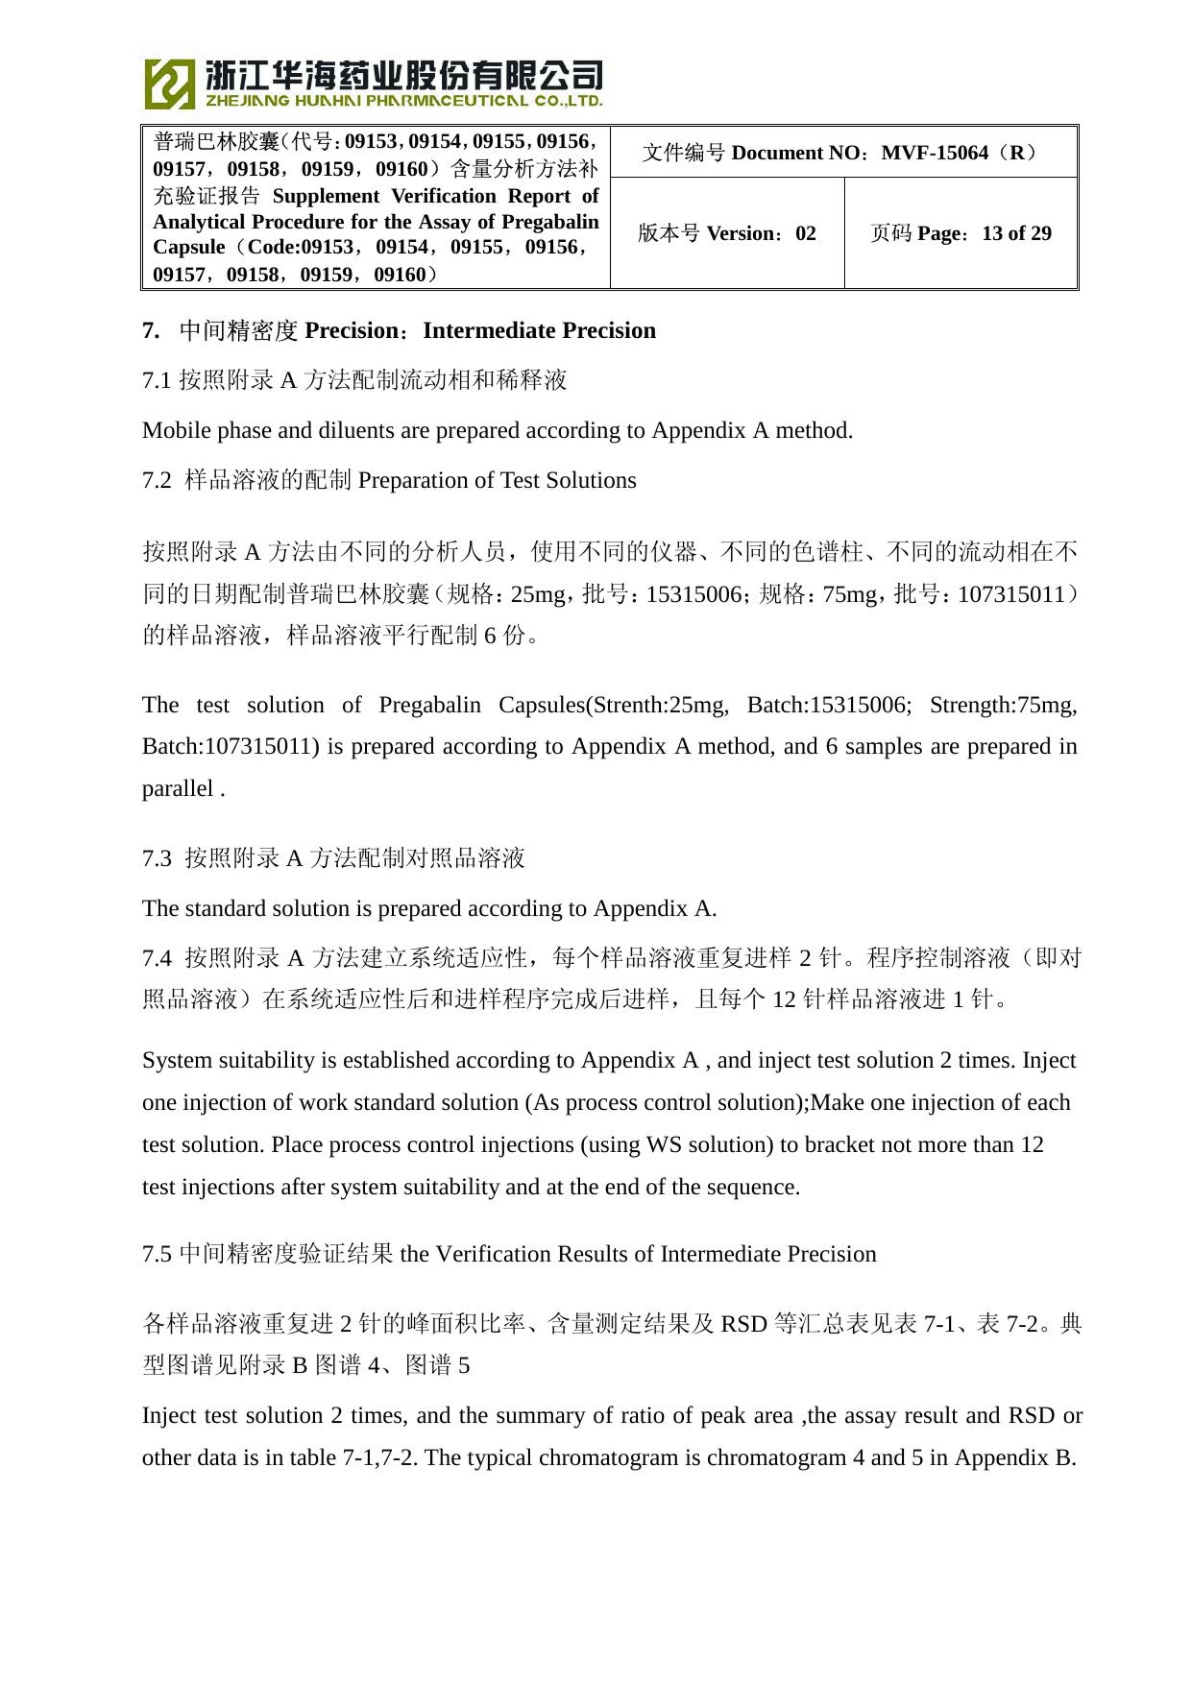merged_cells: (139, 121, 1081, 291)
